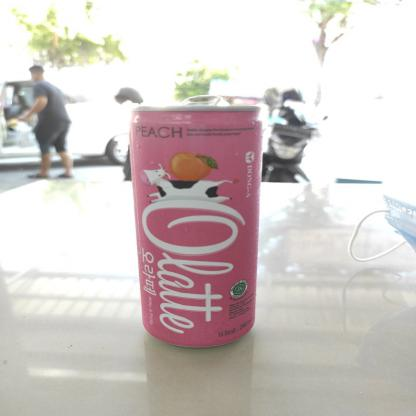can: (124, 97, 270, 351)
